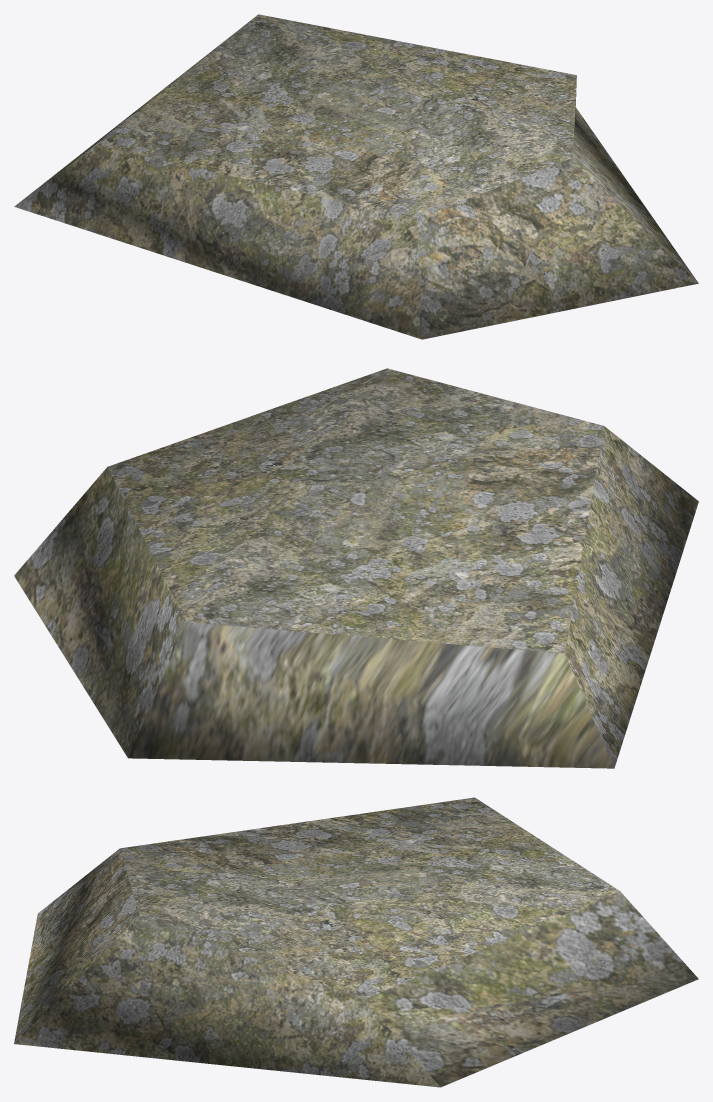
Rendered from rock_002.glb.
3 views of the same model, one above another, from view 1: azimuth 30°, elevation 25°; view 2: azimuth 150°, elevation 25°; view 3: azimuth 270°, elevation 25° (orthographic). The views are drawn at different scales.
Visible parts, largest first — view 1: Cube.027; view 2: Cube.027; view 3: Cube.027.
Boxes of the visible parts, x1,y1,x2,y2 form: Cube.027: (14, 14, 698, 339); Cube.027: (14, 368, 698, 768); Cube.027: (14, 797, 698, 1087).
Bounding box in the file's own units: 0.5339 × 0.0931 × 0.6002.
Materials: 1 (1 with a texture image).
